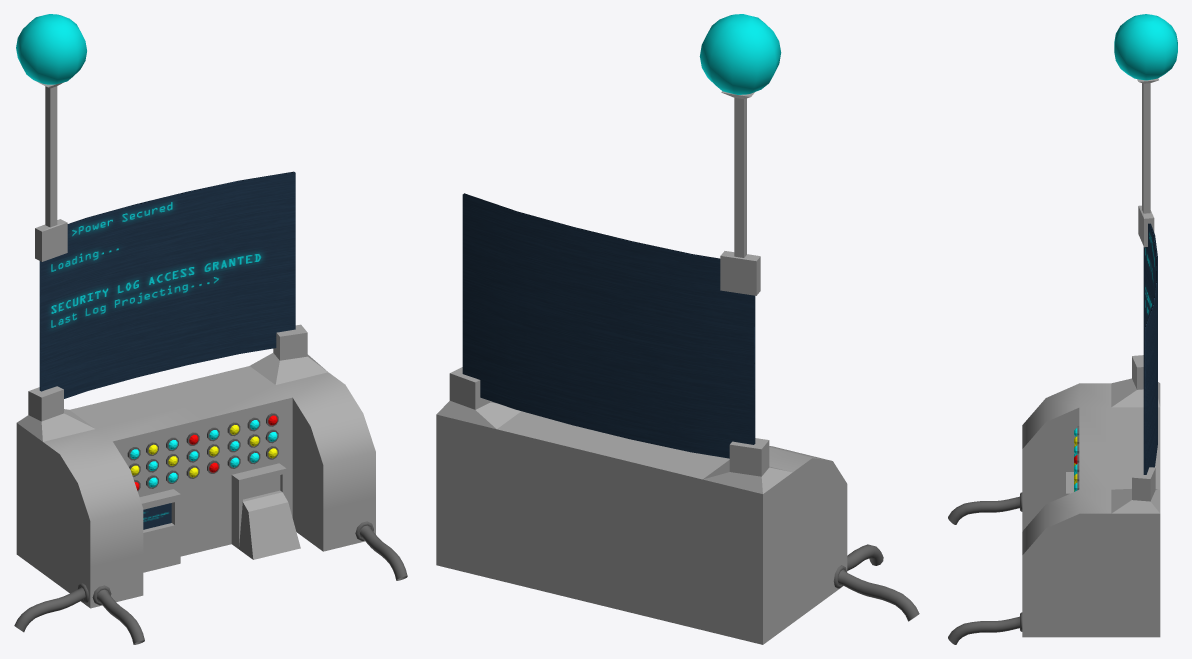
File: terminal1.fbx
3 renders of one model, left to right at view 1: azimuth 30°, elevation 25°; view 2: azimuth 150°, elevation 25°; view 3: azimuth 270°, elevation 25°, orthographic. The views are drawn at different scales.
Visible parts, largest first — view 1: main_terminal, screen_1, left_protrusion, pSphere1, projector_rod, polySurface2, conduit3, conduit1, conduit2, polySurface1; view 2: main_terminal, screen_1, pSphere1, projector_rod, conduit3; view 3: main_terminal, screen_1, pSphere1, projector_rod, conduit1, conduit2.
Boxes of the visible parts, left/top/right/bottom form: main_terminal: left=16, top=324, right=375, bottom=608; screen_1: left=39, top=171, right=295, bottom=398; left_protrusion: left=231, top=463, right=300, bottom=559; pSphere1: left=16, top=14, right=86, bottom=84; projector_rod: left=35, top=81, right=67, bottom=261; polySurface2: left=139, top=489, right=180, bottom=572; conduit3: left=14, top=583, right=89, bottom=632; conduit1: left=92, top=585, right=144, bottom=644; conduit2: left=355, top=521, right=407, bottom=580; polySurface1: left=143, top=503, right=171, bottom=529; main_terminal: left=436, top=367, right=847, bottom=644; screen_1: left=462, top=193, right=755, bottom=458; pSphere1: left=699, top=14, right=781, bottom=94; projector_rod: left=720, top=91, right=760, bottom=295; conduit3: left=833, top=565, right=919, bottom=621; main_terminal: left=1022, top=355, right=1160, bottom=637; screen_1: left=1143, top=223, right=1157, bottom=474; pSphere1: left=1114, top=14, right=1177, bottom=80; projector_rod: left=1137, top=78, right=1158, bottom=247; conduit1: left=948, top=492, right=1022, bottom=524; conduit2: left=948, top=612, right=1022, bottom=644.
Bounding box in the file's own units: 12.22 × 18.07 × 7.34.
